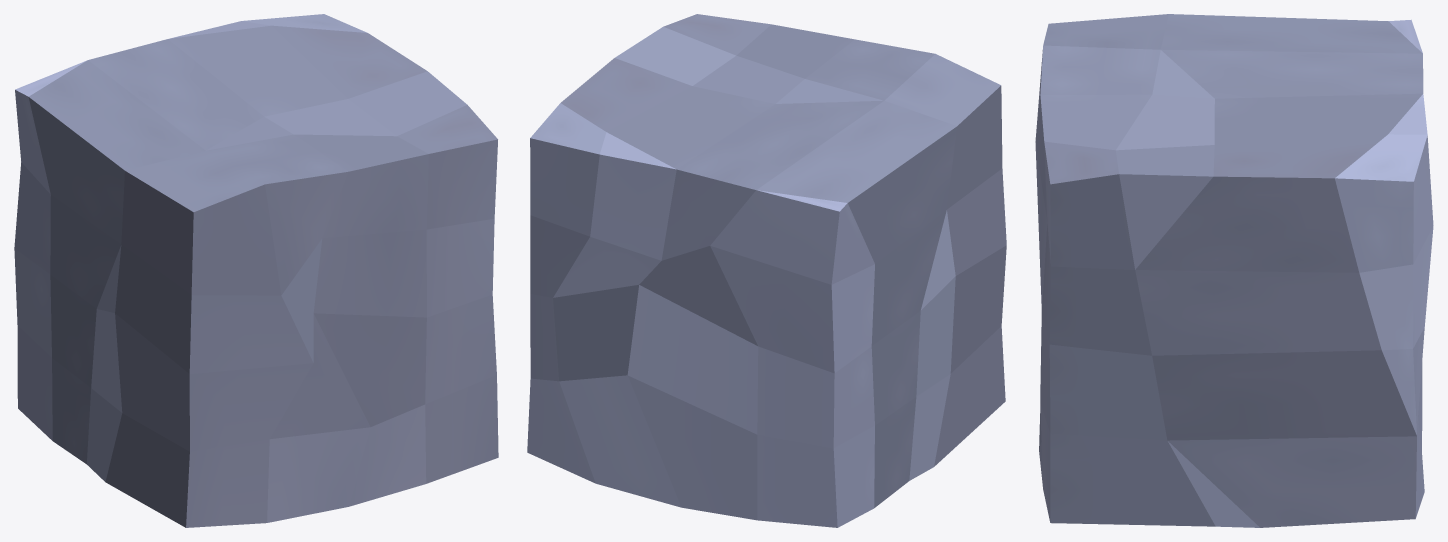
The model's file is blockstone.glb.
The picture shows the model from 3 angles, left to right: view 1: azimuth 30°, elevation 25°; view 2: azimuth 150°, elevation 25°; view 3: azimuth 270°, elevation 25°; orthographic projection. The views are drawn at different scales.
Visible parts, largest first — view 1: CubeStone; view 2: CubeStone; view 3: CubeStone.
Part boxes in pixels (x1=…): CubeStone: x1=14, y1=14, x2=498, y2=527; CubeStone: x1=527, y1=14, x2=1006, y2=527; CubeStone: x1=1035, y1=14, x2=1433, y2=527.
Size of the model in its own units: 2.18 by 2.2 by 2.14.
Materials: 1 (1 with a texture image).
